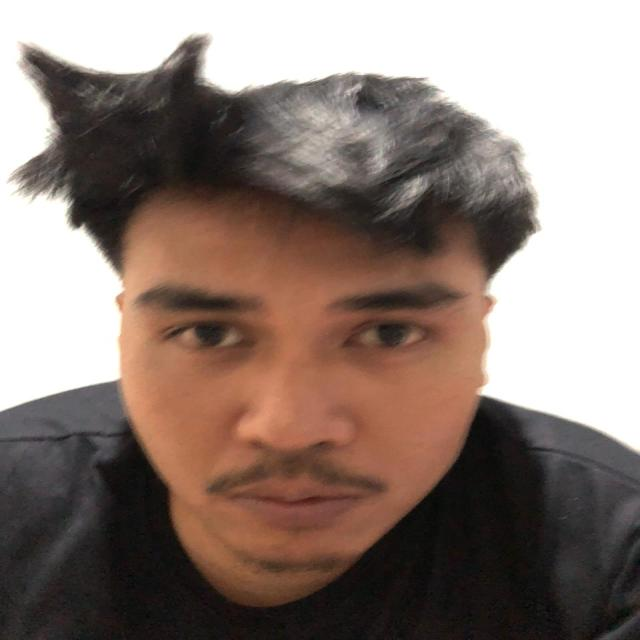sem_oculos: (106, 266, 526, 371)
